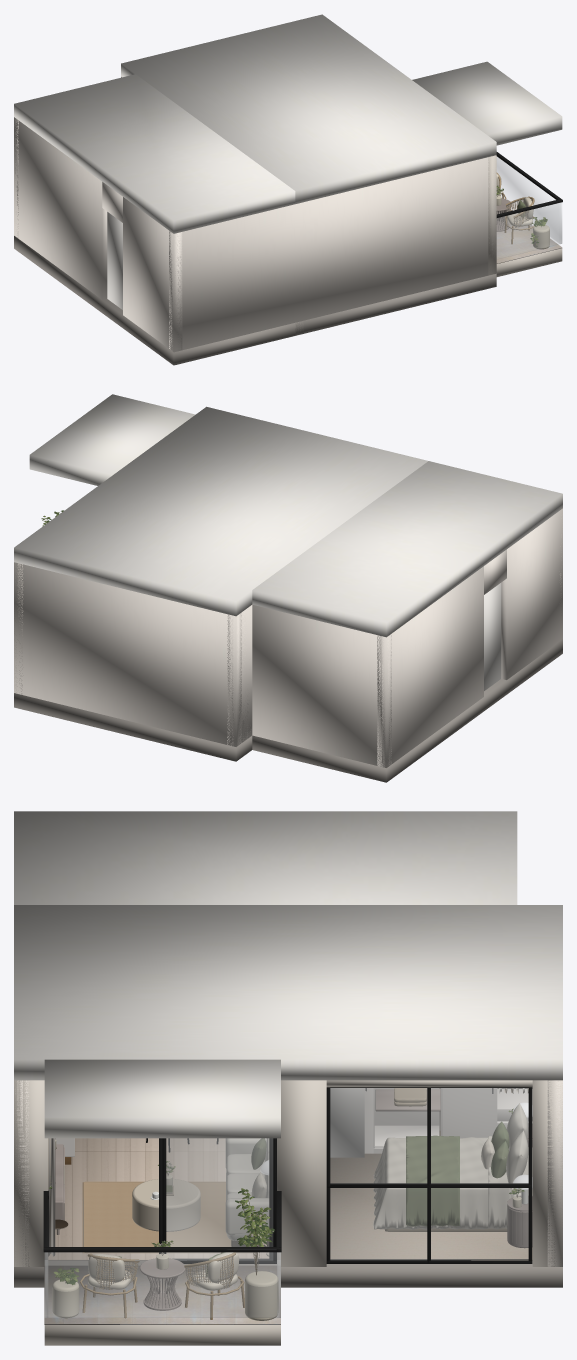
Rendered from apartment.glb.
3 views of the same model, one above another, from view 1: azimuth 30°, elevation 25°; view 2: azimuth 150°, elevation 25°; view 3: azimuth 270°, elevation 25° (orthographic). The views are drawn at different scales.
Parts seen in each view (by area): view 1: apartment-arch, apartment-matte, apartment-glass, apartment-floor, apartment-metal; view 2: apartment-arch, apartment-matte; view 3: apartment-arch, apartment-matte, apartment-glass, apartment-floor, apartment-metal.
Boxes of the visible parts, left/top/right/bottom form: apartment-arch: left=14, top=14, right=496, bottom=365; apartment-matte: left=107, top=61, right=562, bottom=309; apartment-glass: left=497, top=157, right=562, bottom=259; apartment-floor: left=496, top=209, right=562, bottom=263; apartment-metal: left=496, top=152, right=562, bottom=217; apartment-arch: left=14, top=406, right=562, bottom=782; apartment-matte: left=29, top=394, right=501, bottom=690; apartment-arch: left=14, top=811, right=562, bottom=1287; apartment-matte: left=44, top=1059, right=532, bottom=1345; apartment-glass: left=44, top=1088, right=528, bottom=1317; apartment-floor: left=44, top=1130, right=532, bottom=1324; apartment-metal: left=43, top=1087, right=532, bottom=1263.
Size of the model in its own units: 9.51 by 3.3 by 7.2.
8 materials, 7 textured.
